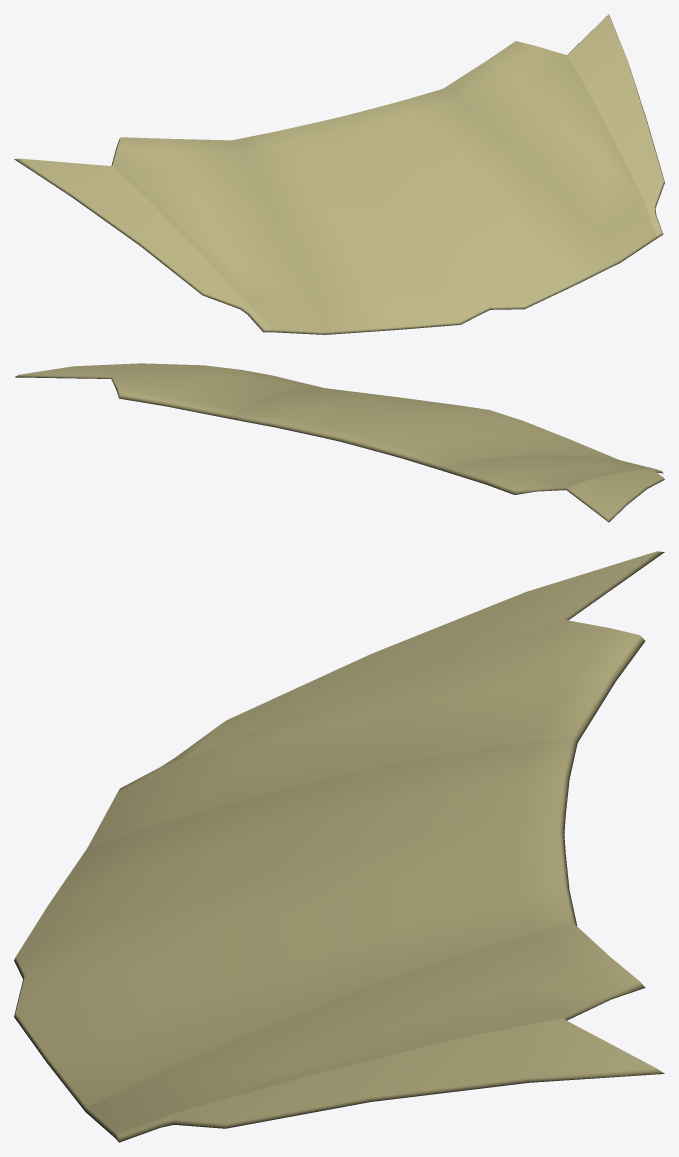
The model's file is Aventador_Hood_Duco.fbx.
3 renders of one model, top to bottom at view 1: azimuth 30°, elevation 25°; view 2: azimuth 150°, elevation 25°; view 3: azimuth 270°, elevation 25°, orthographic. The views are drawn at different scales.
Visible parts, largest first — view 1: Aventador_Hood_Duco; view 2: Aventador_Hood_Duco; view 3: Aventador_Hood_Duco.
Part boxes in pixels (x1,y1,x2,y2): Aventador_Hood_Duco: [14, 14, 664, 334]; Aventador_Hood_Duco: [15, 363, 664, 522]; Aventador_Hood_Duco: [14, 551, 664, 1142].
Size of the model in its own units: 159 by 25.66 by 83.84.
